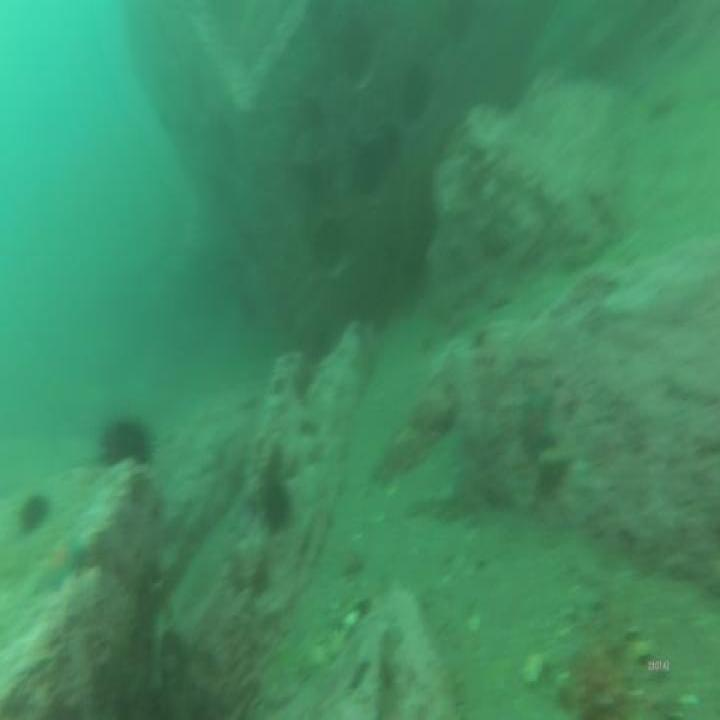echinus: (101, 414, 152, 478), (263, 466, 292, 535), (20, 489, 52, 537)
starfish: (33, 537, 90, 597)
